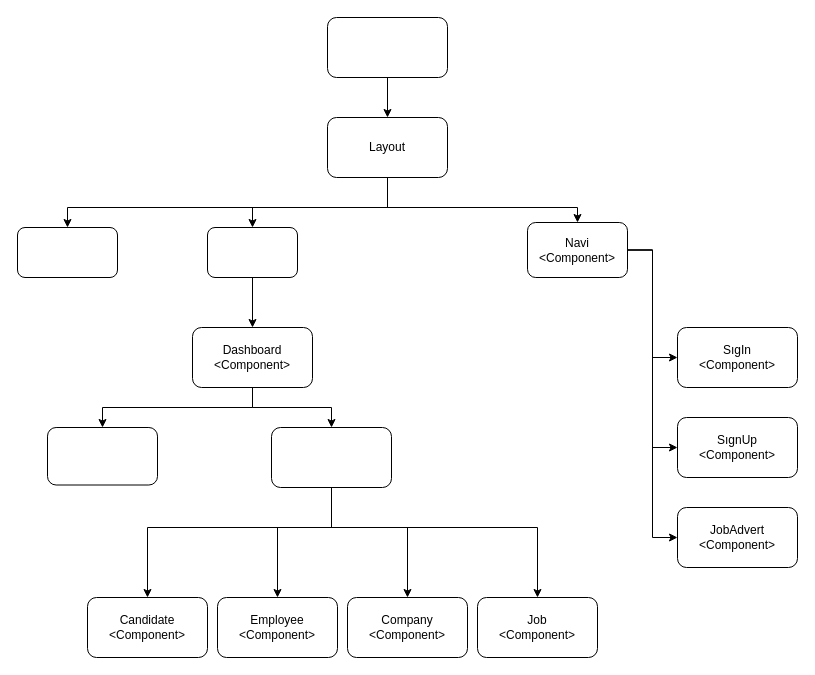
This 815x675 diagram has some shape labels left out. Each missing label, with the centre of its shape:
"App" belongs at pixel 387 47.
"Container" belongs at pixel 252 252.
"Footer <Component>" belongs at pixel 67 252.
"Section <Component>" belongs at pixel 331 457.
"Sidebar <Component>" belongs at pixel 102 455.
